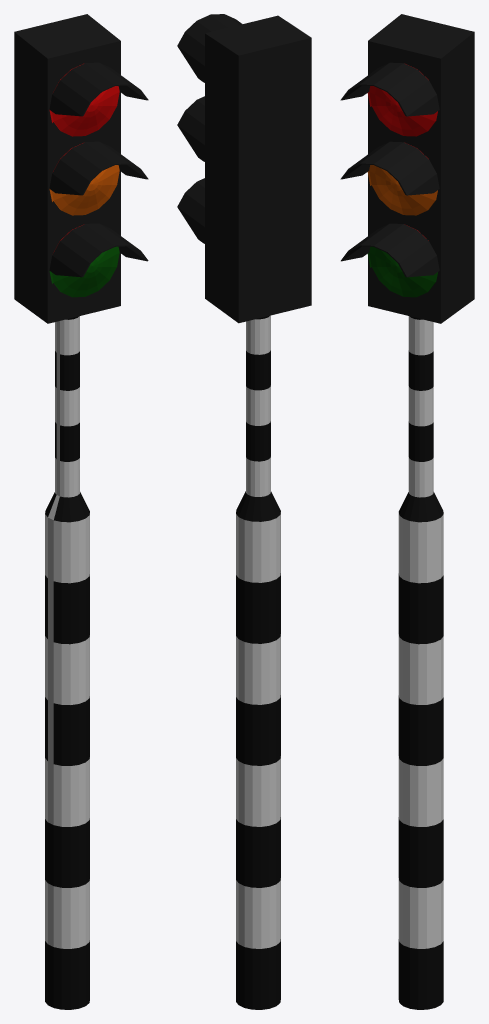
Rendered from CyclistLight.obj.
3 views of the same model, side by side, from view 1: azimuth 30°, elevation 25°; view 2: azimuth 210°, elevation 25°; view 3: azimuth 330°, elevation 25° (orthographic).
Visible parts, largest first — view 1: Light_Cube.006, Cyclist_Light_Cylinder.004; view 2: Light_Cube.006, Cyclist_Light_Cylinder.004; view 3: Light_Cube.006, Cyclist_Light_Cylinder.004.
Boxes of the visible parts, x1=… form: Light_Cube.006: x1=14, y1=14, x2=148, y2=323; Cyclist_Light_Cylinder.004: x1=45, y1=316, x2=89, y2=1009; Light_Cube.006: x1=177, y1=14, x2=311, y2=323; Cyclist_Light_Cylinder.004: x1=236, y1=315, x2=280, y2=1009; Light_Cube.006: x1=340, y1=14, x2=474, y2=323; Cyclist_Light_Cylinder.004: x1=398, y1=316, x2=443, y2=1009.
Size of the model in its own units: 0.3641 by 4.59 by 0.556.
